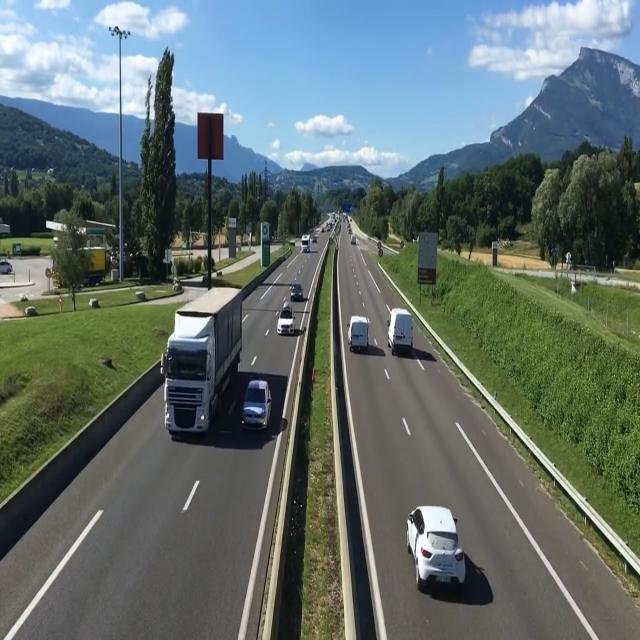car: (409, 500, 478, 602), (236, 376, 273, 436), (389, 306, 416, 361), (350, 314, 372, 354), (277, 300, 296, 337), (290, 279, 304, 301)
truck: (163, 300, 229, 441)
